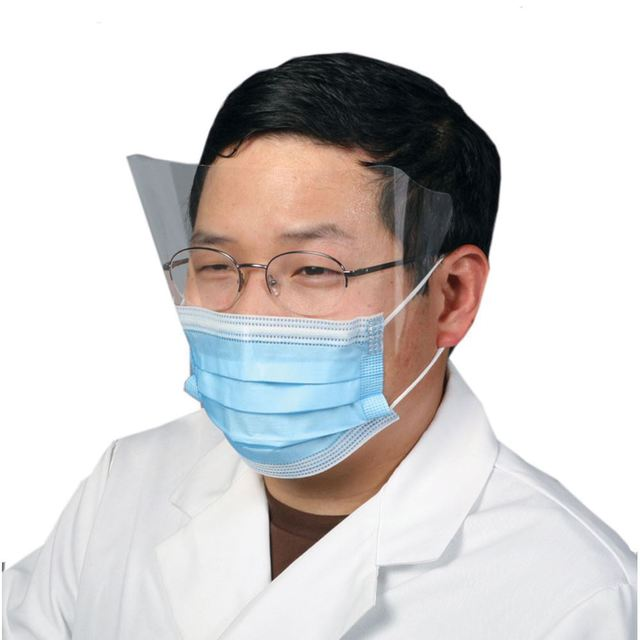mask: (163, 297, 395, 470)
